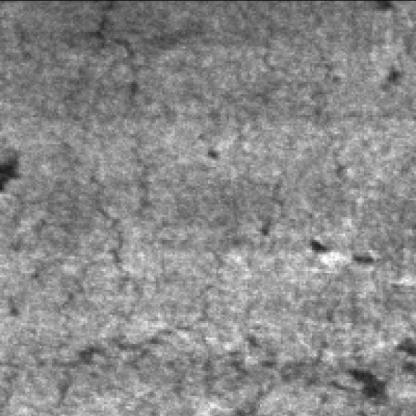crazing: (48, 33, 146, 331), (23, 336, 331, 416)
